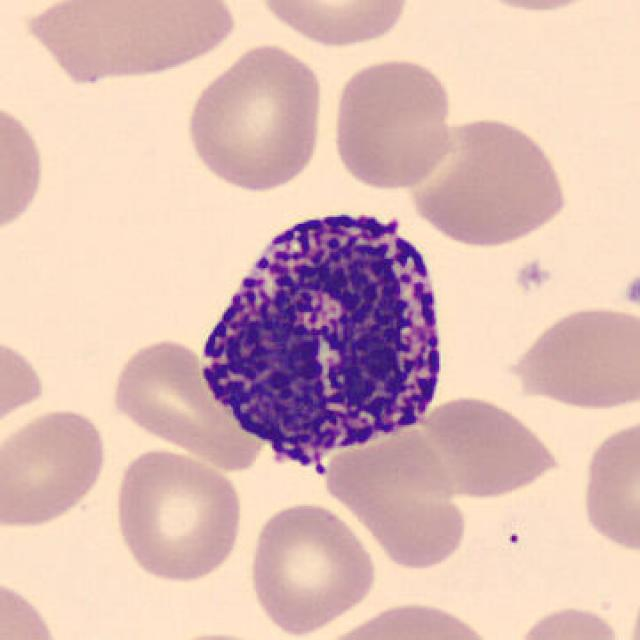Basophil: (185, 191, 460, 488)
Platelets: (618, 270, 640, 314)
RBC: (181, 38, 329, 195), (406, 111, 572, 249), (105, 333, 268, 471), (325, 430, 473, 572), (384, 392, 564, 502), (109, 444, 247, 586), (244, 497, 380, 638), (19, 0, 241, 86), (327, 53, 459, 194), (502, 302, 636, 412), (0, 404, 110, 530), (576, 414, 640, 557), (311, 597, 499, 640), (250, 0, 414, 49), (0, 95, 50, 244), (0, 331, 48, 434), (0, 573, 68, 640), (510, 601, 626, 640), (452, 0, 615, 16), (151, 627, 289, 640), (627, 575, 640, 640)
